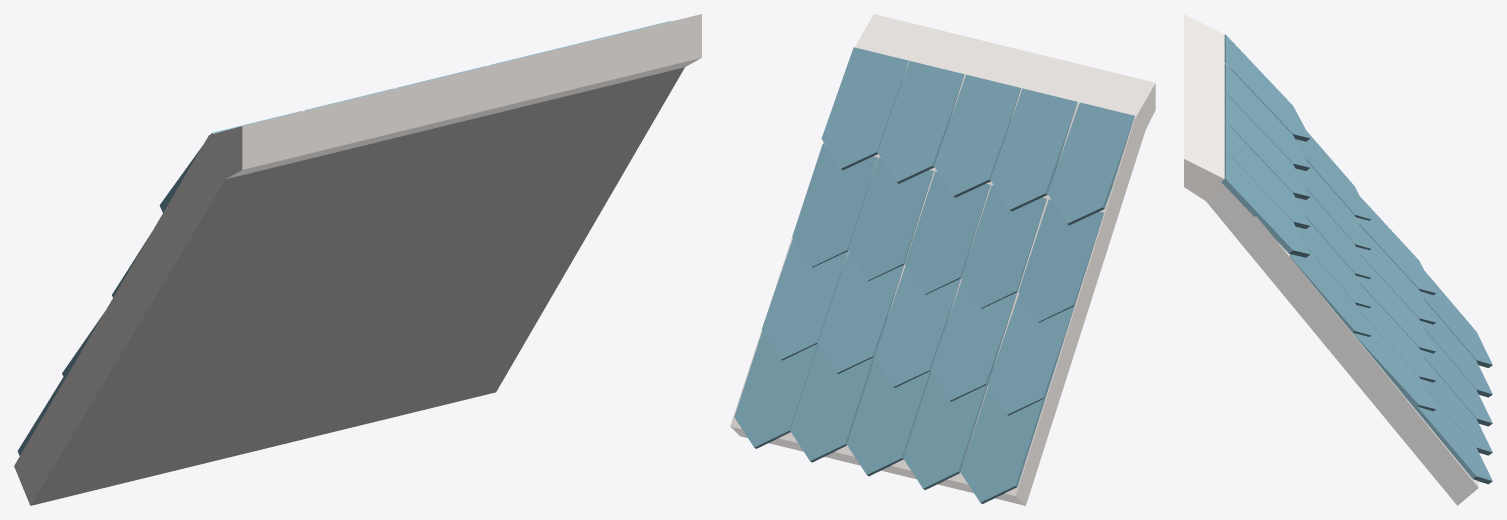
Rendered from Roof01_house2.fbx.
3 renders of one model, left to right at view 1: azimuth 30°, elevation 25°; view 2: azimuth 150°, elevation 25°; view 3: azimuth 270°, elevation 25°, orthographic. The views are drawn at different scales.
Visible parts, largest first — view 1: Roof01_house2; view 2: Roof01_house2; view 3: Roof01_house2.
Boxes of the visible parts, x1,y1,x2,y2 form: Roof01_house2: (14,14,701,505); Roof01_house2: (730,14,1155,505); Roof01_house2: (1184,14,1492,505).
Size of the model in its own units: 303 by 332 by 269.
